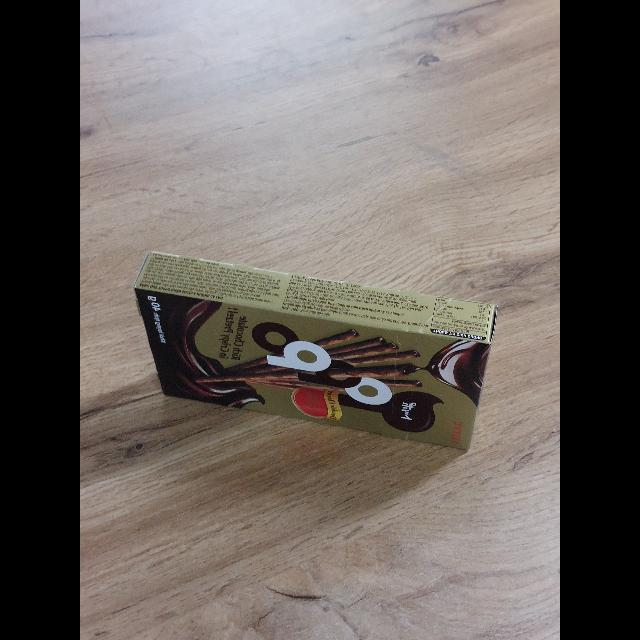banh_toppo_socola: (133, 253, 497, 457)
